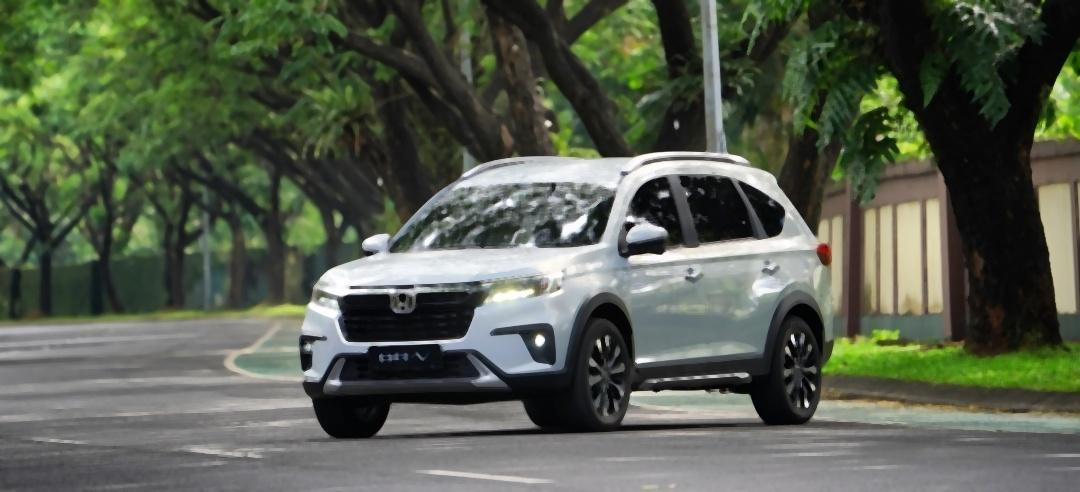Car hood: (319, 242, 604, 291), (0, 2, 2, 46)
Fender - -F-L-: (555, 237, 648, 400)
Fender - -R-L-: (756, 174, 842, 387)
Front bumper: (297, 296, 575, 398)
Headlight - -L-: (473, 267, 565, 313)
Headlight - -R-: (306, 280, 348, 321)
Passenger-s door - -F-L-: (617, 153, 723, 410)
Passenger-s door - -R-L-: (683, 153, 786, 400)
Rear light - -L-: (814, 244, 842, 268)
Side bumper - -L-: (618, 346, 778, 413)
Side mirror - -L-: (616, 220, 671, 264)
Side mirror - -R-: (359, 231, 395, 259)
